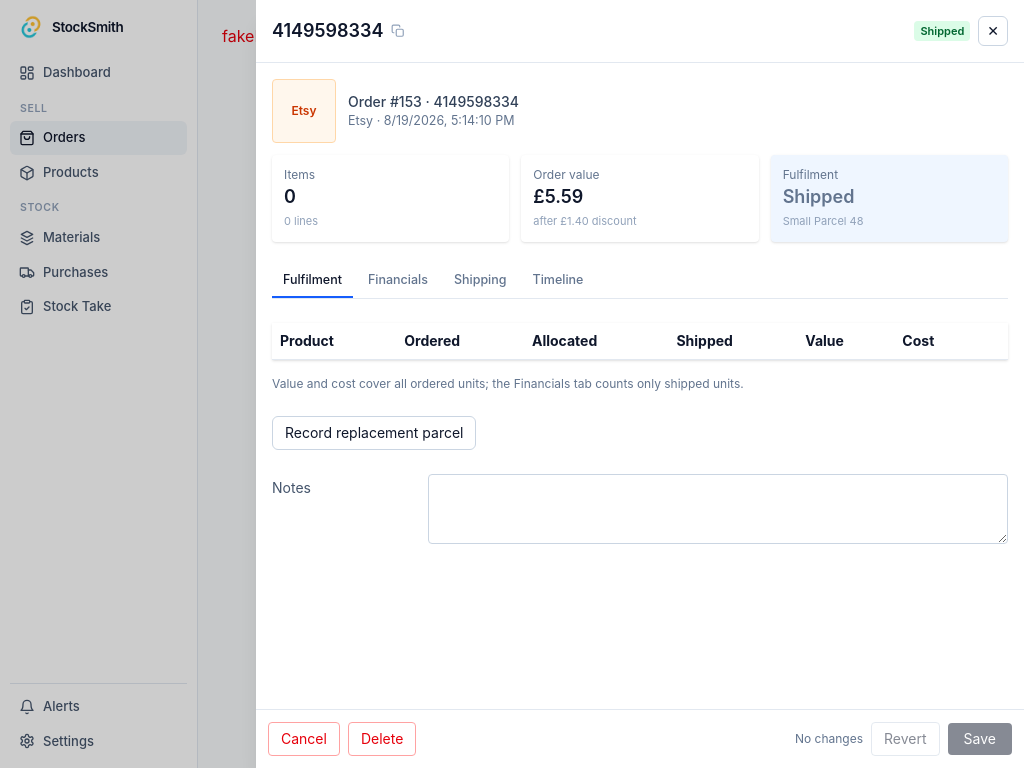
Test: shows what the discount came off, rather than listing it as another deduction
Click the button "Financials": (398, 282) [357,266,439,298]
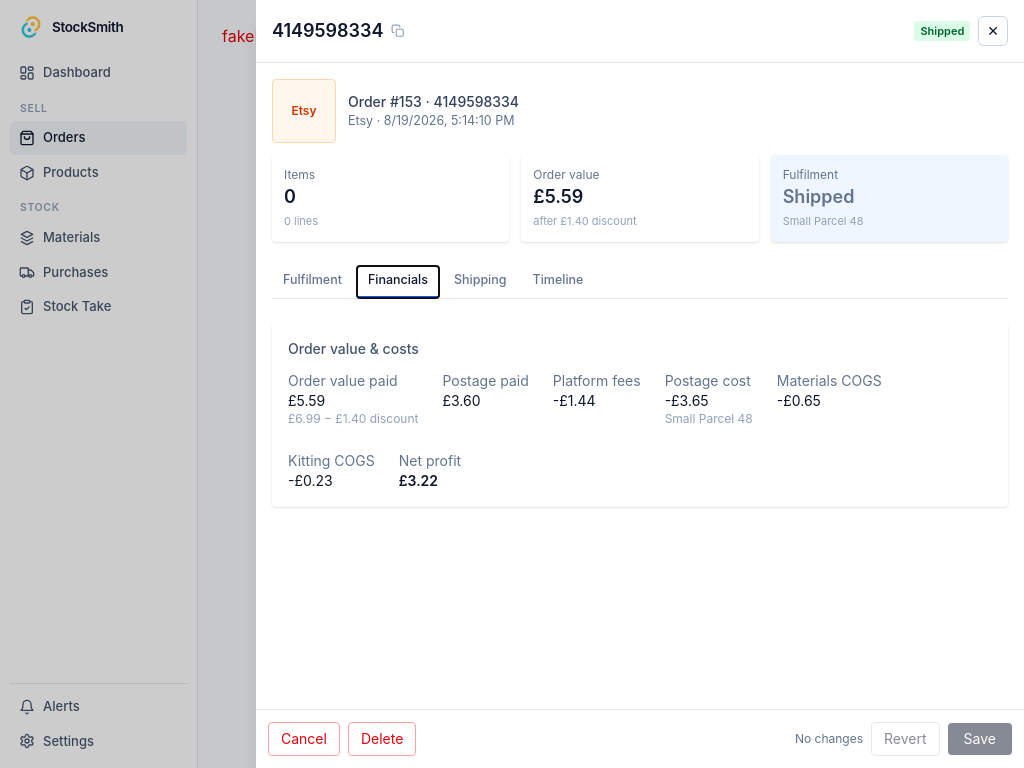
Now the heading "Order value & costs" is shown, box [288,340,419,356]
Now the text "£6.99 − £1.40 discount" is shown, box [288,410,418,426]
Now the text "£5.59" below "Order value paid" is shown, box [288,392,325,408]
